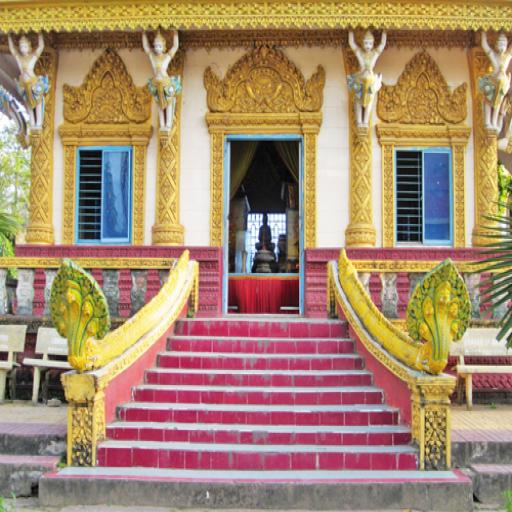ran: (396, 256, 474, 378), (42, 258, 114, 373)
than: (135, 29, 186, 134), (340, 27, 389, 132), (6, 29, 53, 132), (474, 27, 512, 135)
